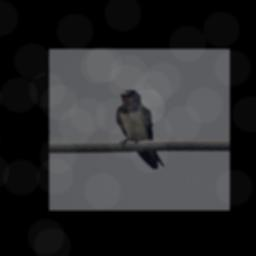Swallow: (116, 90, 165, 170)
